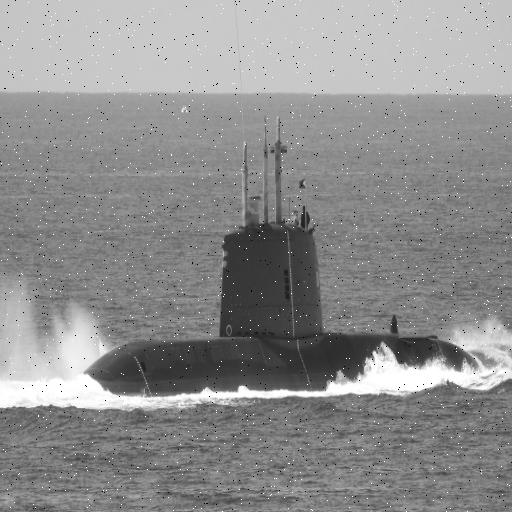submarine: (79, 106, 486, 400)
